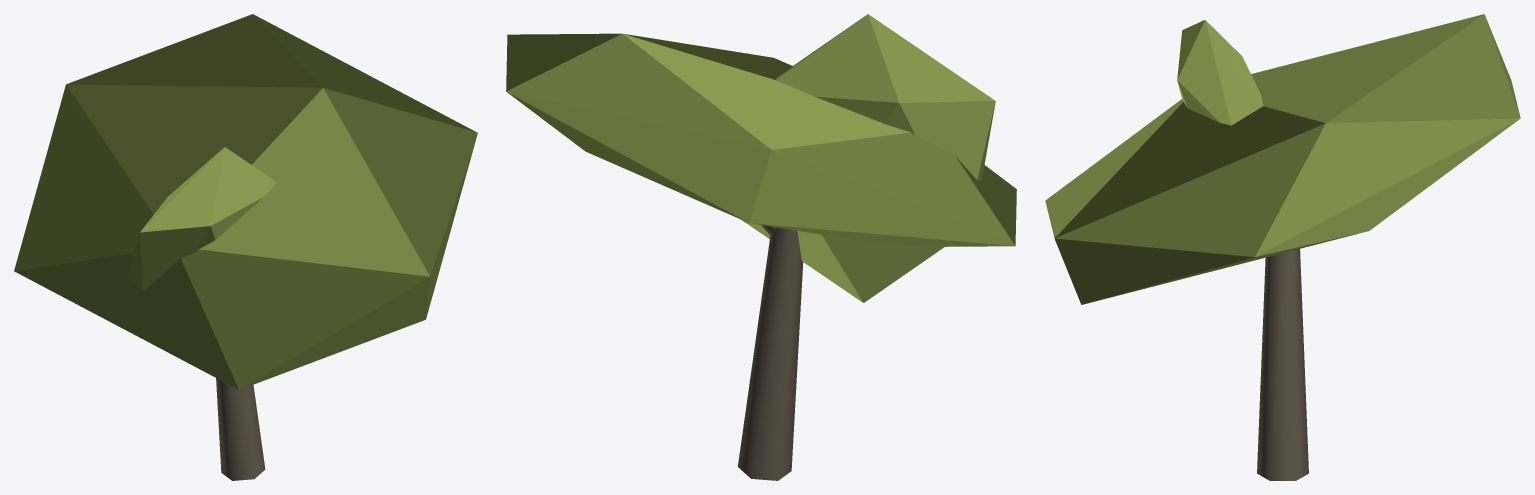
File: tree_acacia_1.glb
3 views of the same model, side by side, from view 1: azimuth 30°, elevation 25°; view 2: azimuth 150°, elevation 25°; view 3: azimuth 270°, elevation 25° (orthographic). The views are drawn at different scales.
Parts seen in each view (by area): view 1: tree_acacia_1; view 2: tree_acacia_1; view 3: tree_acacia_1.
Part boxes in pixels (x1,y1,x2,y2): tree_acacia_1: (14, 14, 477, 480); tree_acacia_1: (506, 14, 1016, 480); tree_acacia_1: (1045, 14, 1520, 480).
Bounding box in the file's own units: 5.05 × 3.98 × 4.02.
